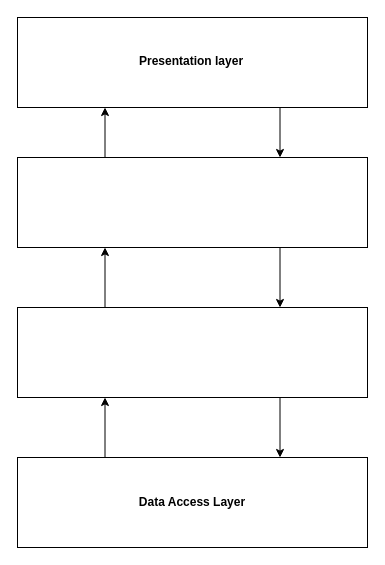
The diagram is 385 pixels wide and 565 high, and some of its shapes have lost their labels. The shapes that lost their labels are listed below. From the top down, each one's centre as x and y in pixels, then its label:
the point at 192,202: Application layer
the point at 192,352: Business Layer
